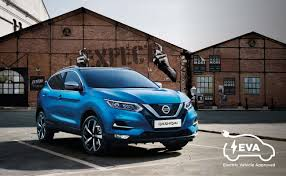Nissan: (40, 69, 196, 149)
